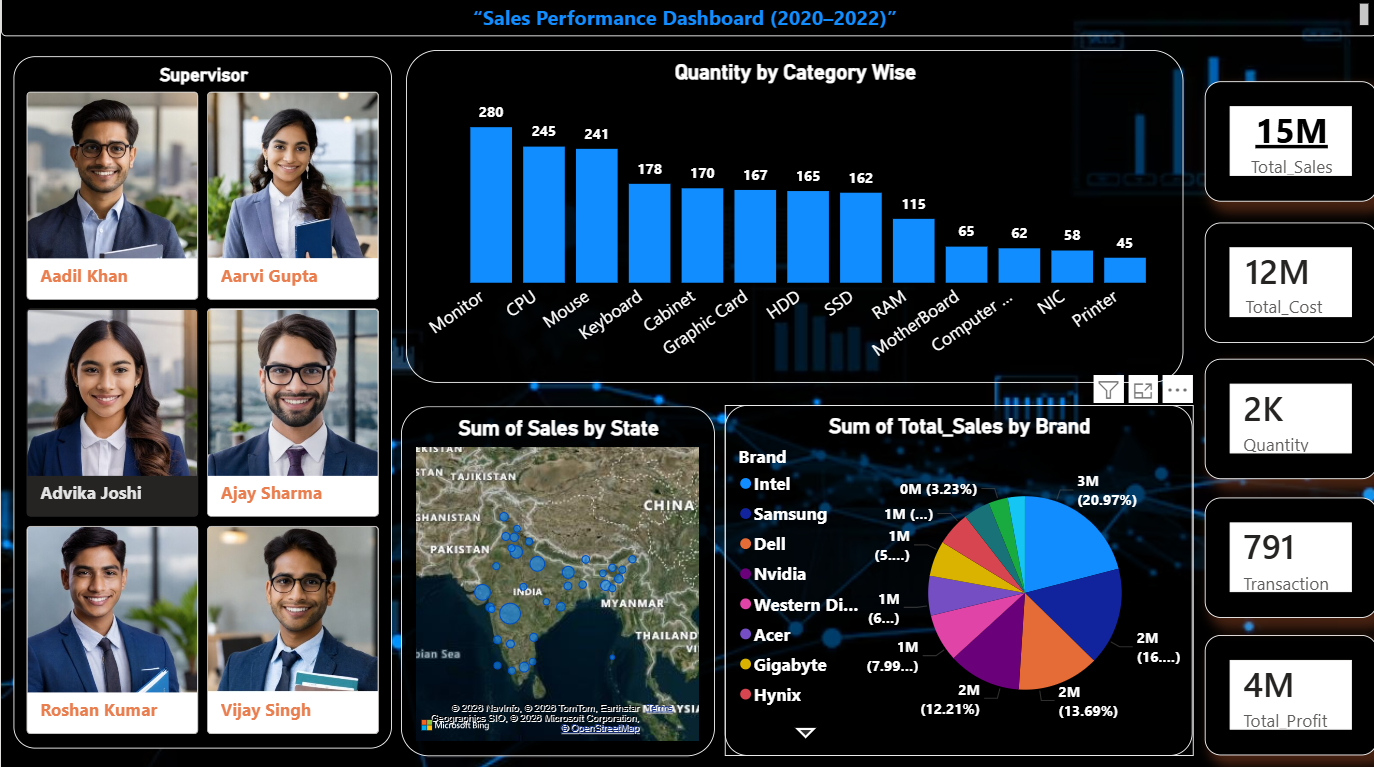

Layout of this report page (visuals, bound fields, positions):
{"tool":"powerbi","page":{"name":"Page 1","canvas":[1280,720],"ordinal":0},"visuals":[{"type":"textbox","box":[0,0,1280,38.3],"z":0},{"type":"cardVisual","fields":{"Data":["Sum(Sales_Data.Quantity)"]},"box":[1119.8,338.4,160.5,111.6],"z":1000},{"type":"cardVisual","fields":{"Data":["Sum(Sales_Data.Total_Cost)"]},"box":[1119.8,211.6,160.5,111.6],"z":2000},{"type":"clusteredColumnChart","title":" Quantity by Category Wise","fields":{"Y":["Sum(Sales_Data.Quantity)"],"Category":["Sales_Data.Category"]},"box":[376.7,51.2,723.3,309.3],"z":3000},{"type":"pieChart","fields":{"Y":["Sum(Sales_Data.Total_Sales)"],"Category":["Sales_Data.Brand"]},"box":[673.3,381.9,435.5,326.1],"z":4000},{"type":"map","fields":{"Category":["State_list.State"],"Size":["Sum(Sales_Data.Sales)"]},"box":[372.1,382.6,291.9,325.6],"z":5000},{"type":"advancedSlicerVisual","fields":{"Values":["Supervisor.Supervisor"]},"box":[11.6,57,352.3,644.2],"z":6000},{"type":"cardVisual","fields":{"Data":["Sales_Data.Total_Profit"]},"box":[1119.8,595.4,160.5,111.6],"z":7000},{"type":"cardVisual","fields":{"Data":["Sum(Sales_Data.Total_Sales)"]},"box":[1119.8,80.2,160.5,111.6],"z":8000},{"type":"cardVisual","fields":{"Data":["CountNonNull(Sales_Data.Order_Number)"]},"box":[1119.8,467.4,160.5,111.6],"z":9000}]}

Visuals, with their boxes in screenshot pixels (x1, y1, x2, y2), scaled from the page's 1280x720 canvas onto the 1374x767 screenshot:
textbox: [0,0,1373,41]
cardVisual - Sum(Sales_Data.Quantity): [1202,360,1373,479]
cardVisual - Sum(Sales_Data.Total_Cost): [1202,225,1373,344]
" Quantity by Category Wise" clusteredColumnChart: [404,55,1181,384]
pieChart - Sum(Sales_Data.Total_Sales) x Sales_Data.Brand: [723,407,1190,754]
map - State_list.State x Sum(Sales_Data.Sales): [399,408,713,754]
advancedSlicerVisual - Supervisor.Supervisor: [12,61,391,747]
cardVisual - Sales_Data.Total_Profit: [1202,634,1373,753]
cardVisual - Sum(Sales_Data.Total_Sales): [1202,85,1373,204]
cardVisual - CountNonNull(Sales_Data.Order_Number): [1202,498,1373,617]
